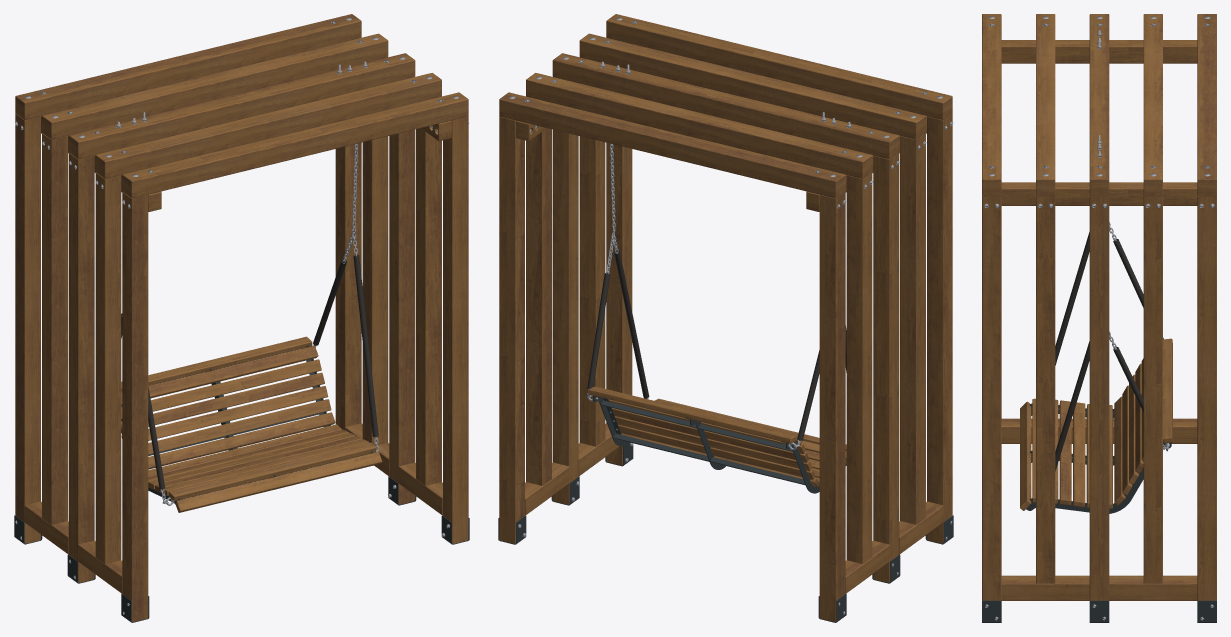
The model's file is kach.glb.
The picture shows the model from 3 angles, left to right: view 1: azimuth 30°, elevation 25°; view 2: azimuth 150°, elevation 25°; view 3: azimuth 270°, elevation 25°; orthographic projection.
Visible parts, largest first — view 1: Качель Юность (арт. 17089)_000020, Качель Юность (арт. 17089)_000008, Качель Юность (арт. 17089)_000017, Качель Юность (арт. 17089)_000019, Качель Юность (арт. 17089)_000012, Качель Юность (арт. 17089)_000011, Качель Юность (арт. 17089)_000007, Box001, Box005, Box002, Box004, Box003 (+21 smaller); view 2: Качель Юность (арт. 17089)_000019, Качель Юность (арт. 17089)_000008, Качель Юность (арт. 17089)_000018, Качель Юность (арт. 17089)_000020, Качель Юность (арт. 17089)_000011, Качель Юность (арт. 17089)_000012, Качель Юность (арт. 17089)_000007, Box005, Box001, Box004, Box002, Box003 (+16 smaller); view 3: Качель Юность (арт. 17089)_000007, Качель Юность (арт. 17089)_000018, Качель Юность (арт. 17089)_000017, Качель Юность (арт. 17089)_000009, Качель Юность (арт. 17089)_000010, Box003, Box001, Box004, Box005, Box002, Box008, Box007 (+24 smaller).
Part boxes in pixels (x1=…): Качель Юность (арт. 17089)_000020: x1=122, y1=192, x2=148, y2=621; Качель Юность (арт. 17089)_000008: x1=68, y1=153, x2=94, y2=582; Качель Юность (арт. 17089)_000017: x1=443, y1=116, x2=468, y2=543; Качель Юность (арт. 17089)_000019: x1=15, y1=113, x2=40, y2=543; Качель Юность (арт. 17089)_000012: x1=95, y1=172, x2=121, y2=563; Качель Юность (арт. 17089)_000011: x1=42, y1=133, x2=67, y2=524; Качель Юность (арт. 17089)_000007: x1=389, y1=129, x2=415, y2=504; Box001: x1=122, y1=92, x2=468, y2=198; Box005: x1=15, y1=14, x2=361, y2=119; Box002: x1=95, y1=73, x2=441, y2=178; Box004: x1=42, y1=33, x2=388, y2=139; Box003: x1=68, y1=53, x2=415, y2=159; Качель Юность (арт. 17089)_000019: x1=819, y1=192, x2=845, y2=621; Качель Юность (арт. 17089)_000008: x1=873, y1=153, x2=899, y2=582; Качель Юность (арт. 17089)_000018: x1=499, y1=116, x2=524, y2=543; Качель Юность (арт. 17089)_000020: x1=927, y1=113, x2=952, y2=543; Качель Юность (арт. 17089)_000011: x1=846, y1=172, x2=872, y2=563; Качель Юность (арт. 17089)_000012: x1=900, y1=133, x2=925, y2=524; Качель Юность (арт. 17089)_000007: x1=552, y1=129, x2=578, y2=504; Box005: x1=499, y1=92, x2=845, y2=198; Box001: x1=606, y1=14, x2=952, y2=119; Box004: x1=526, y1=73, x2=872, y2=178; Box002: x1=579, y1=33, x2=925, y2=139; Box003: x1=552, y1=53, x2=899, y2=159; Качель Юность (арт. 17089)_000007: x1=1089, y1=196, x2=1109, y2=600; Качель Юность (арт. 17089)_000018: x1=1197, y1=196, x2=1216, y2=600; Качель Юность (арт. 17089)_000017: x1=982, y1=196, x2=1001, y2=600; Качель Юность (арт. 17089)_000009: x1=1036, y1=196, x2=1055, y2=583; Качель Юность (арт. 17089)_000010: x1=1143, y1=196, x2=1162, y2=583; Box003: x1=1089, y1=14, x2=1109, y2=196; Box001: x1=982, y1=14, x2=1001, y2=196; Box004: x1=1143, y1=14, x2=1162, y2=196; Box005: x1=1197, y1=14, x2=1216, y2=196; Box002: x1=1036, y1=14, x2=1055, y2=196; Box008: x1=1001, y1=182, x2=1197, y2=205; Box007: x1=1001, y1=40, x2=1197, y2=63.
Size of the model in its own units: 2.02 by 2.55 by 1.2.
4 materials, 2 textured.
